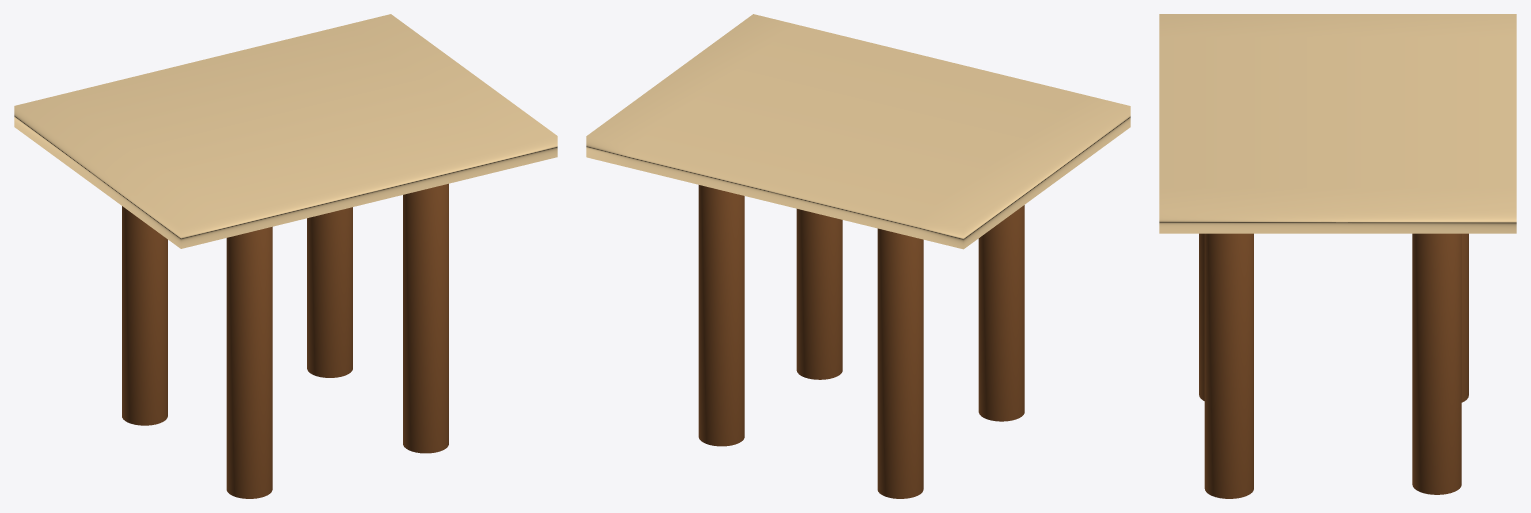
Rendered from mesa_larga.glb.
3 renders of one model, left to right at view 1: azimuth 30°, elevation 25°; view 2: azimuth 150°, elevation 25°; view 3: azimuth 270°, elevation 25°, orthographic. The views are drawn at different scales.
Parts seen in each view (by area): view 1: Cubo, Cilindro.002, Cilindro, Cilindro.001, Cilindro.003; view 2: Cubo, Cilindro.001, Cilindro.003, Cilindro.002, Cilindro; view 3: Cubo, Cilindro, Cilindro.003, Cilindro.001, Cilindro.002.
Part boxes in pixels (x1,y1,x2,y2): Cubo: [14, 14, 557, 248]; Cilindro.002: [226, 226, 272, 498]; Cilindro: [403, 183, 448, 453]; Cilindro.001: [122, 206, 167, 425]; Cilindro.003: [307, 207, 352, 377]; Cubo: [586, 14, 1130, 249]; Cilindro.001: [877, 228, 923, 498]; Cilindro.003: [698, 185, 744, 446]; Cilindro.002: [978, 205, 1024, 421]; Cilindro: [796, 209, 842, 379]; Cubo: [1159, 14, 1516, 233]; Cilindro: [1204, 233, 1253, 498]; Cilindro.003: [1412, 233, 1461, 494]; Cilindro.001: [1461, 233, 1468, 402]; Cilindro.002: [1199, 233, 1204, 400].
Size of the model in its own units: 16.98 by 13.3 by 13.02.
